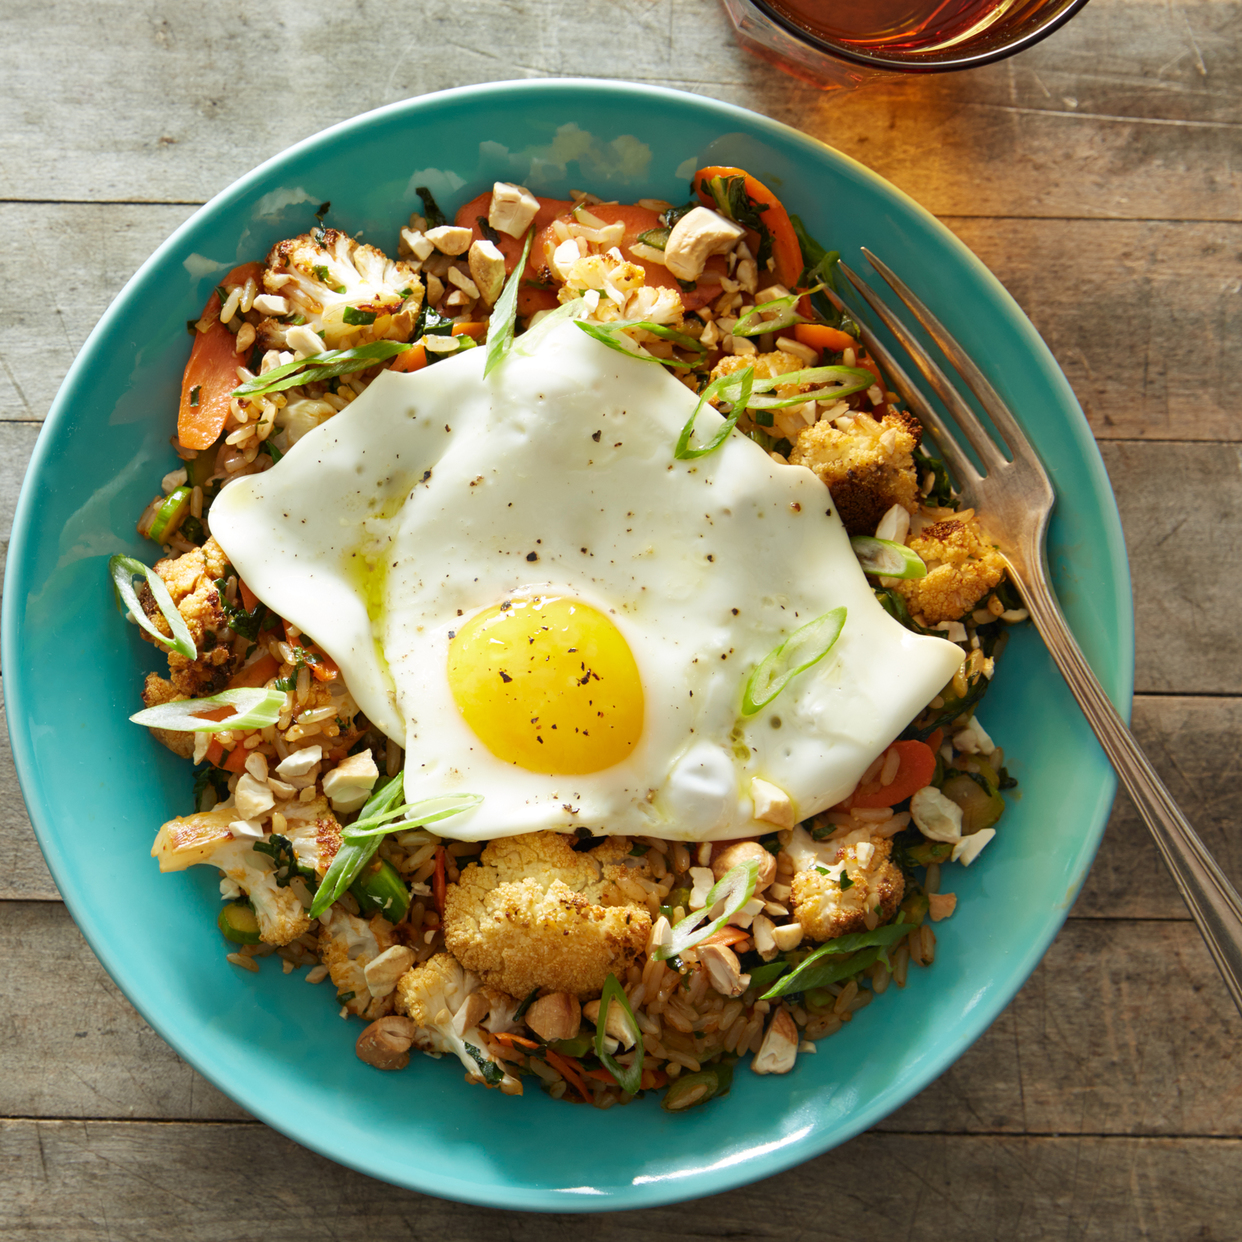fried egg: (235, 405, 876, 811)
